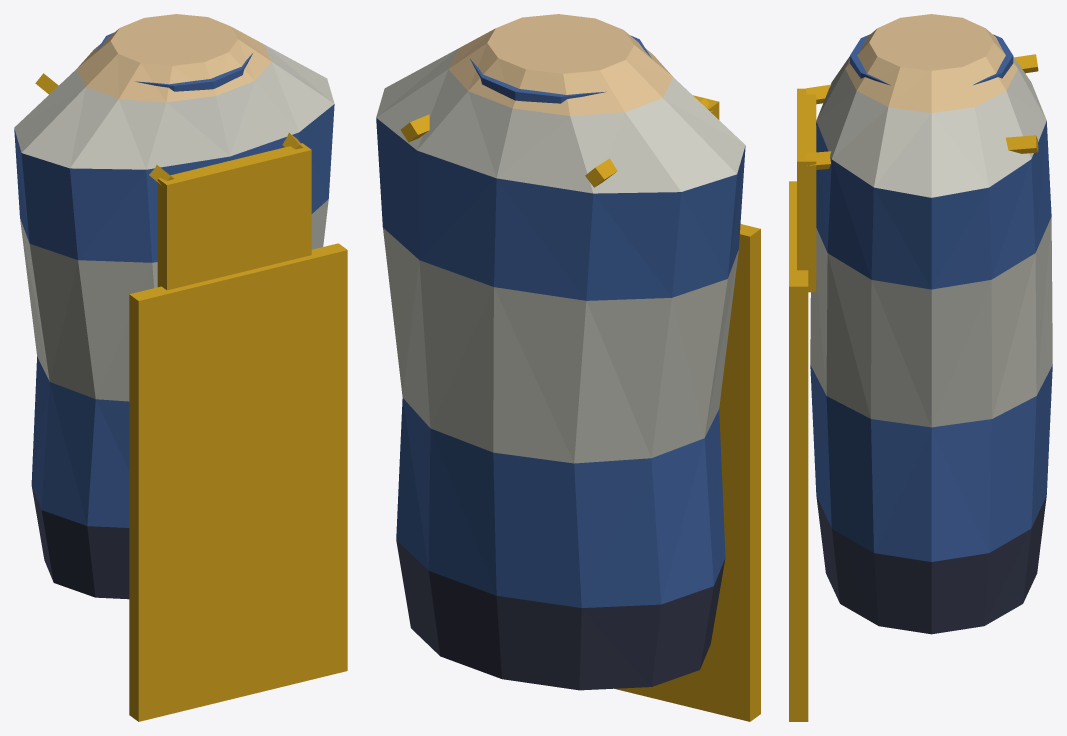
File: PersonMarketBody.obj
3 views of the same model, side by side, from view 1: azimuth 30°, elevation 25°; view 2: azimuth 150°, elevation 25°; view 3: azimuth 270°, elevation 25° (orthographic). The views are drawn at different scales.
Parts seen in each view (by area): view 1: PersonMarketBody; view 2: PersonMarketBody; view 3: PersonMarketBody.
Boxes of the visible parts, <box> form: PersonMarketBody: <box>14,14,347,721</box>; PersonMarketBody: <box>376,14,760,721</box>; PersonMarketBody: <box>789,14,1052,721</box>.
Size of the model in its own units: 0.38 by 0.72 by 0.2745.
